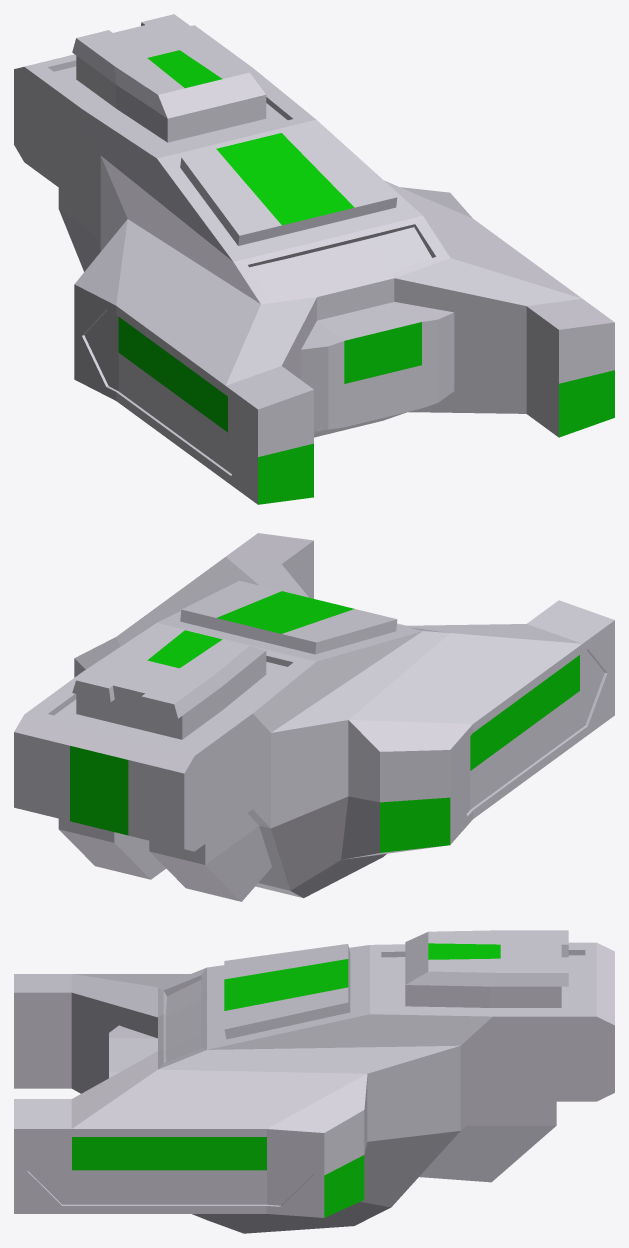
The model's file is hull.block_split.fbx.
The picture shows the model from 3 angles, top to bottom: view 1: azimuth 30°, elevation 25°; view 2: azimuth 150°, elevation 25°; view 3: azimuth 270°, elevation 25°; orthographic projection. The views are drawn at different scales.
Visible parts, largest first — view 1: hull.block_split; view 2: hull.block_split; view 3: hull.block_split.
Boxes of the visible parts, x1=… form: hull.block_split: x1=14, y1=14, x2=614, y2=504; hull.block_split: x1=14, y1=533, x2=614, y2=901; hull.block_split: x1=14, y1=930, x2=614, y2=1233.
Size of the model in its own units: 3.06 by 2.18 by 4.77.
